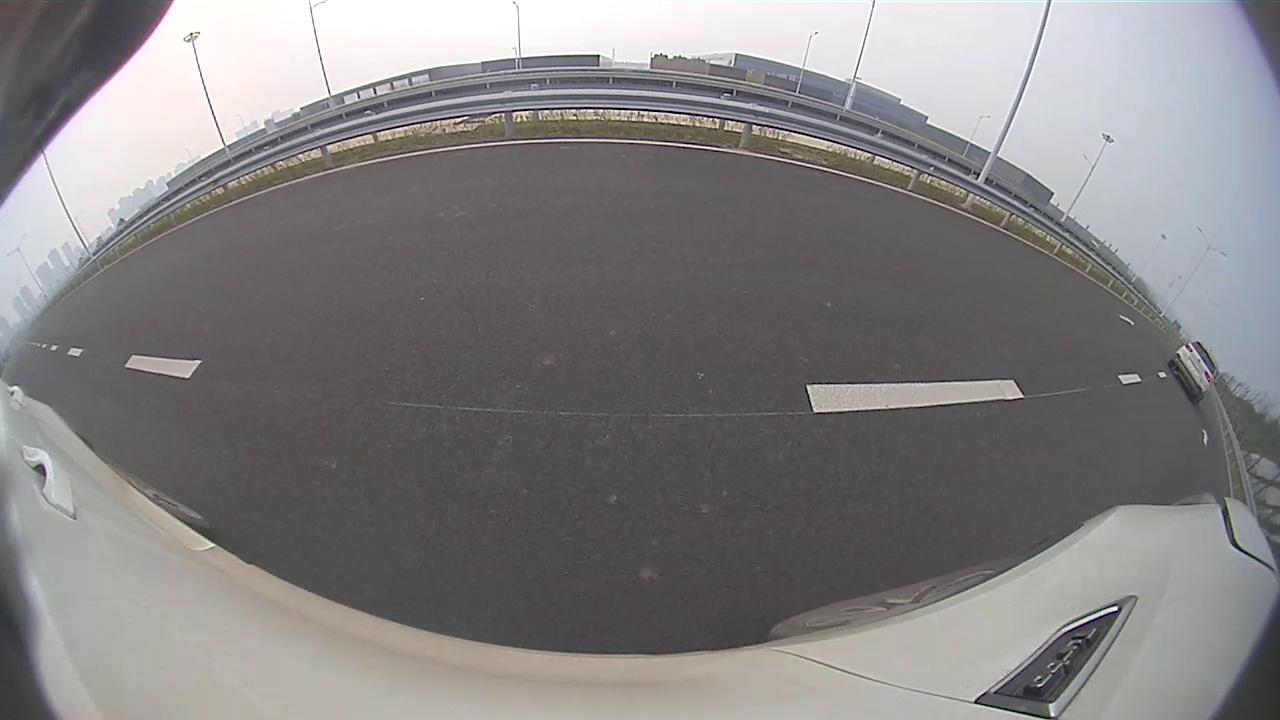car: (619, 153, 666, 192)
